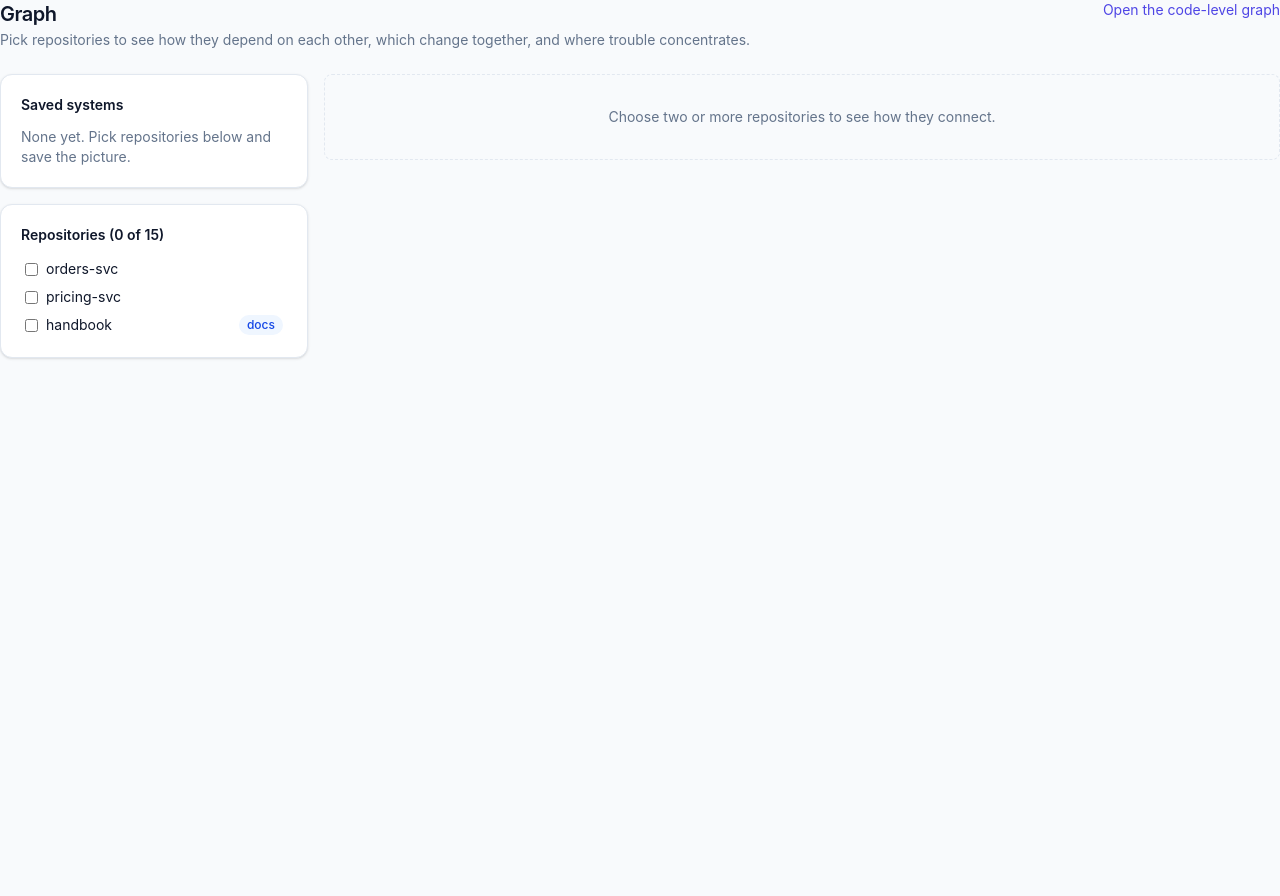
Test: Graph: systems › answers a question about the chosen repositories and shows numbered sources, marking the analysis
Click the checkbox labelled "orders-svc" at (32, 269), box [25,262,38,276]
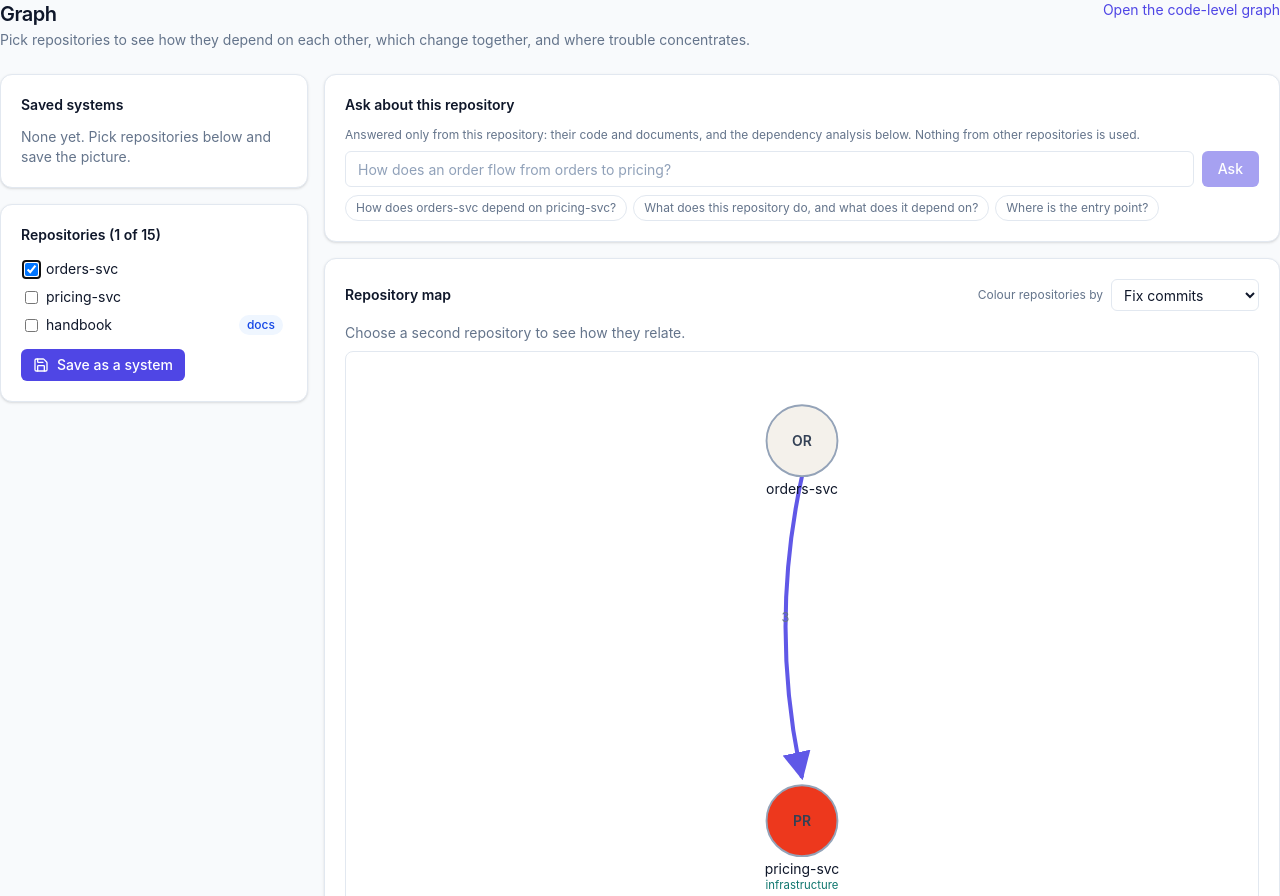
Click the checkbox labelled "pricing-svc" at (32, 297), box [25,290,38,304]
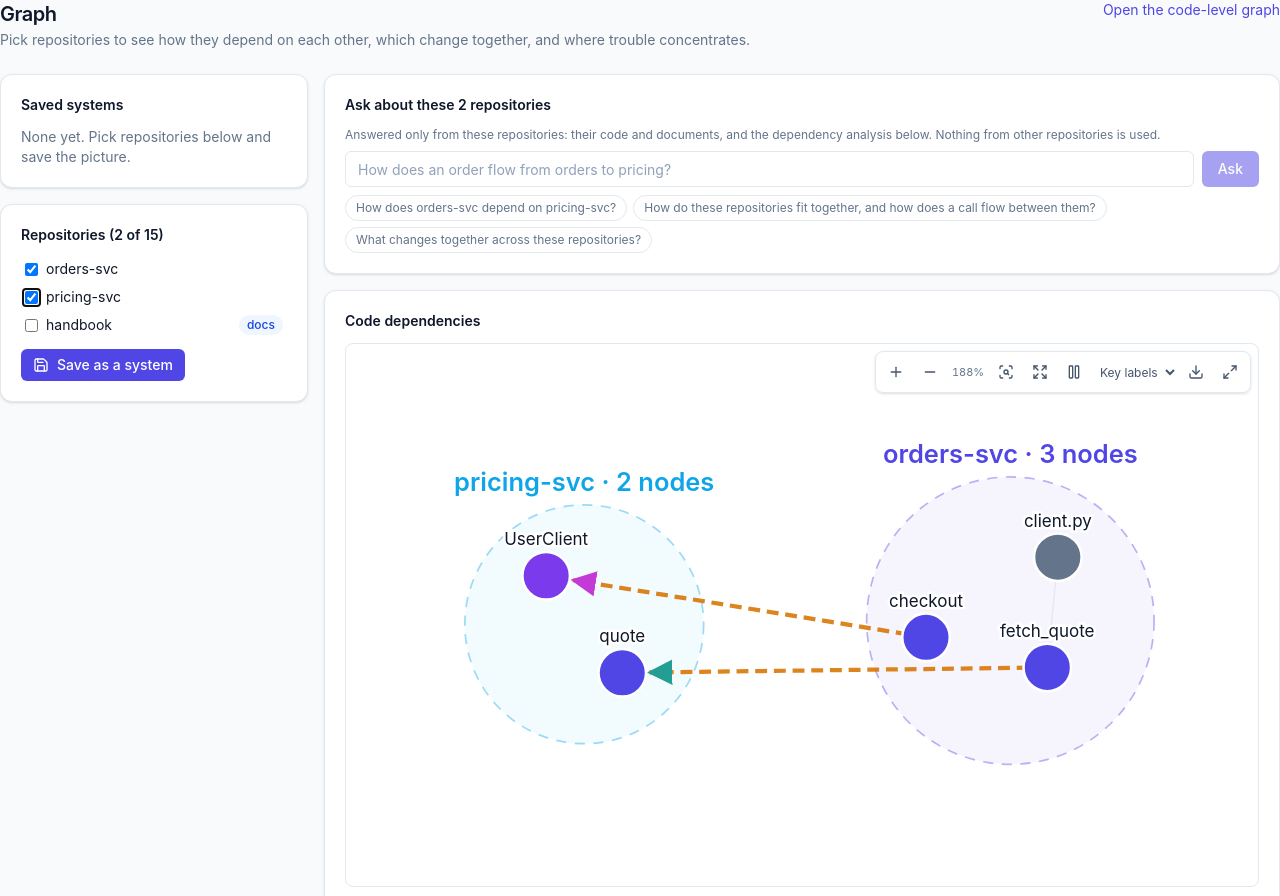
Type "How does orders call pricing?" into the field named "Your question" at (769, 169), box [345,151,1194,187]
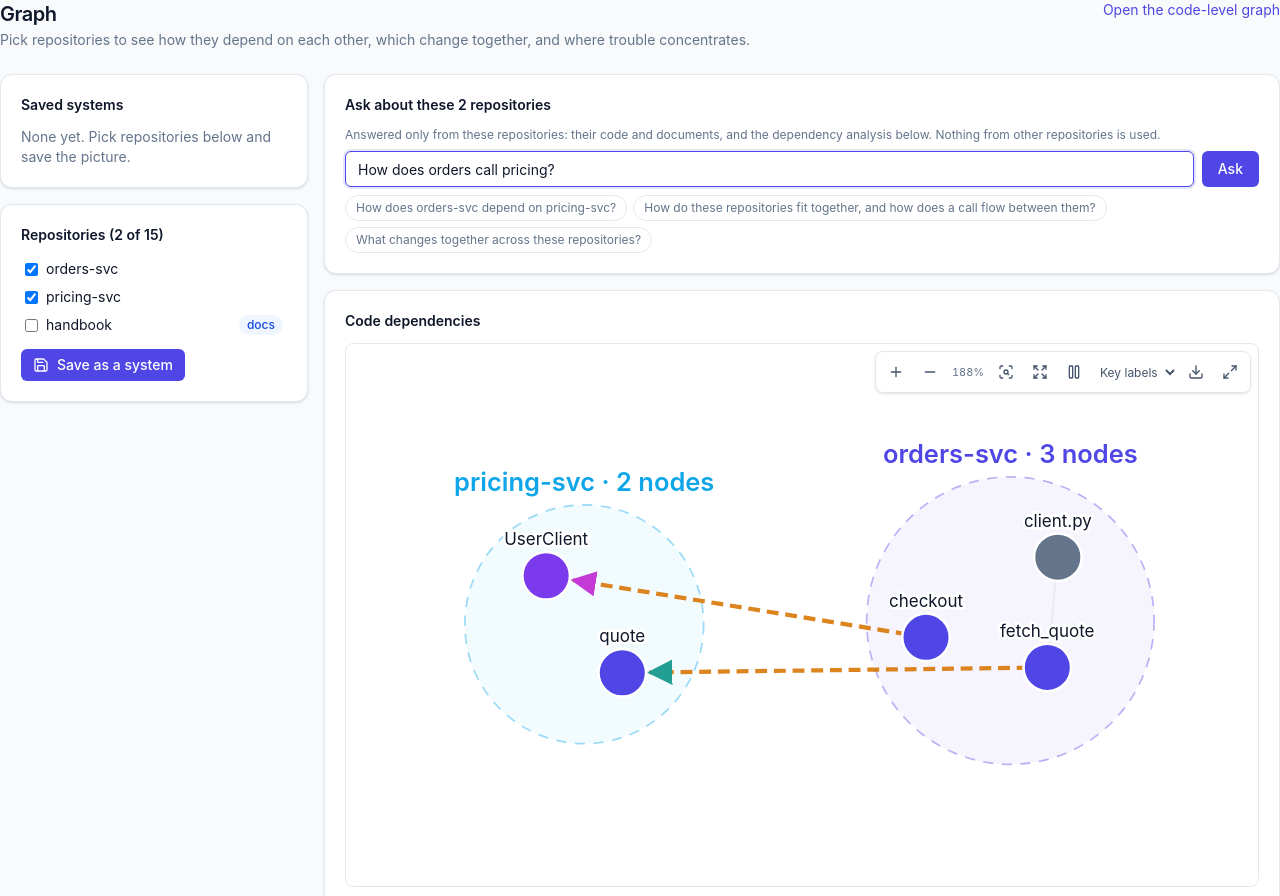
Click the button "Ask" at (1230, 169), box [1202,151,1259,187]
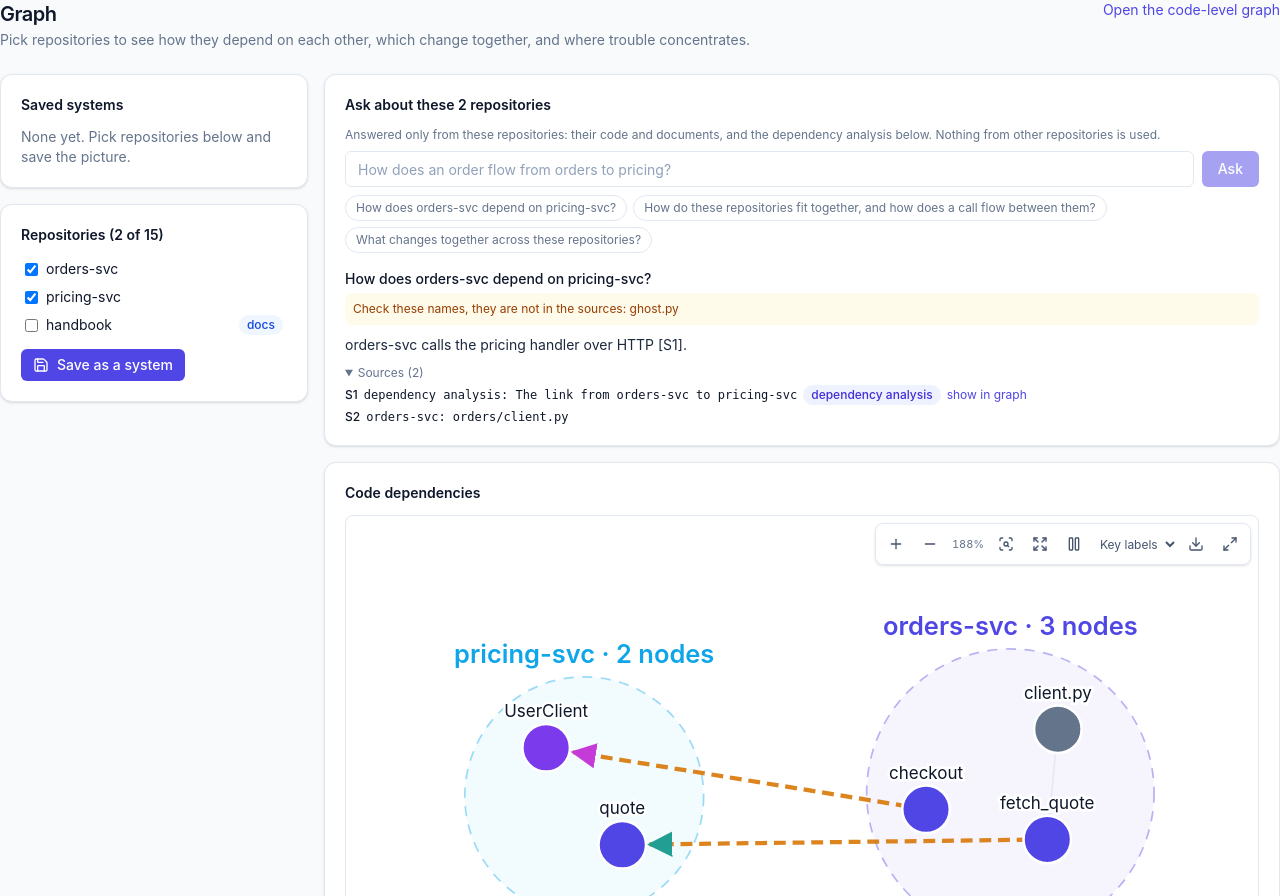
Result: the element named "Answer" shows "orders-svc calls the pricing handler over HTTP [S1]." at [345,336,687,353]
Result: the element named "Answer" shows "Check these names, they are not in the sources: ghost.py" at [345,269,1259,425]
Result: the element named "Answer" shows "dependency analysis" at [364,388,501,402]
